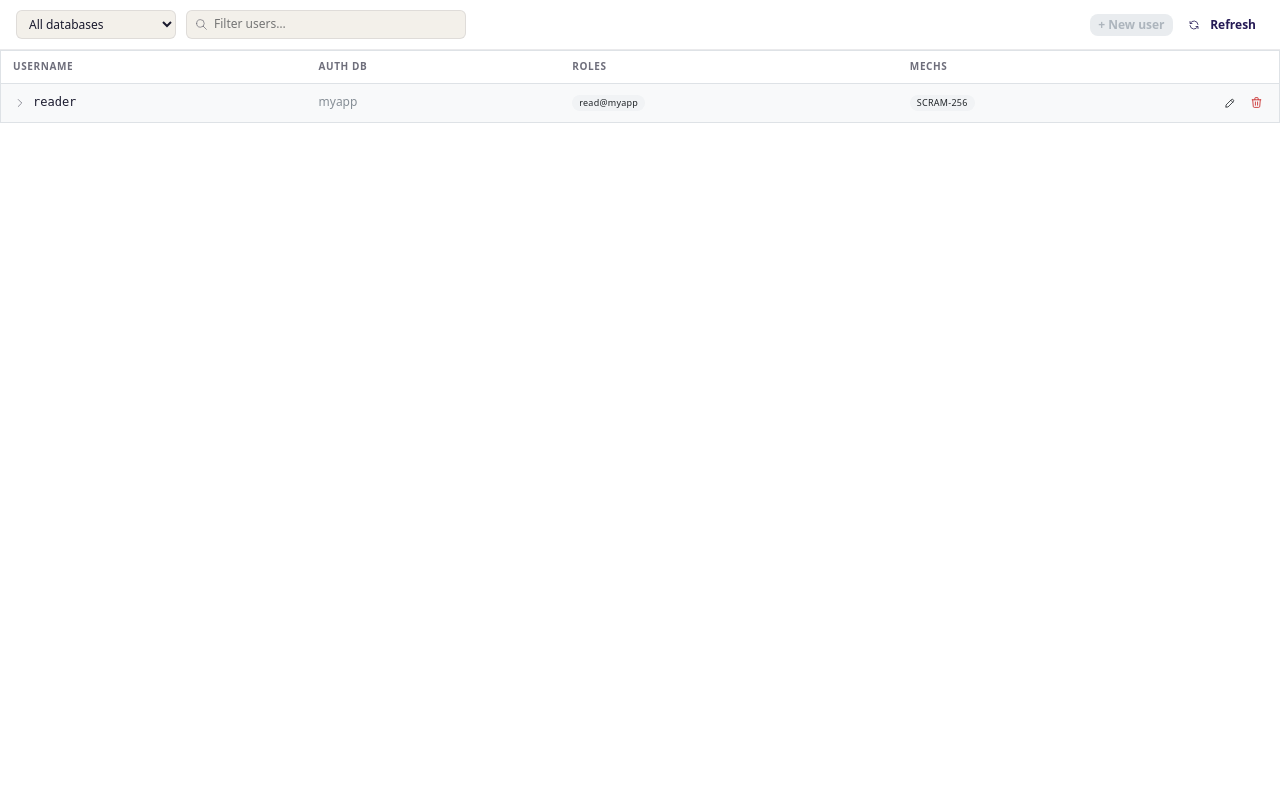
Test: UsersTab — drop confirm › Drop disabled until typed name matches; success refetches
This screenshot has width=1280, height=800.
Check: the text "reader" is shown, box [33, 93, 76, 112]
Click the button named "Drop user reader".
click(1256, 102)  # box [1245, 92, 1267, 114]
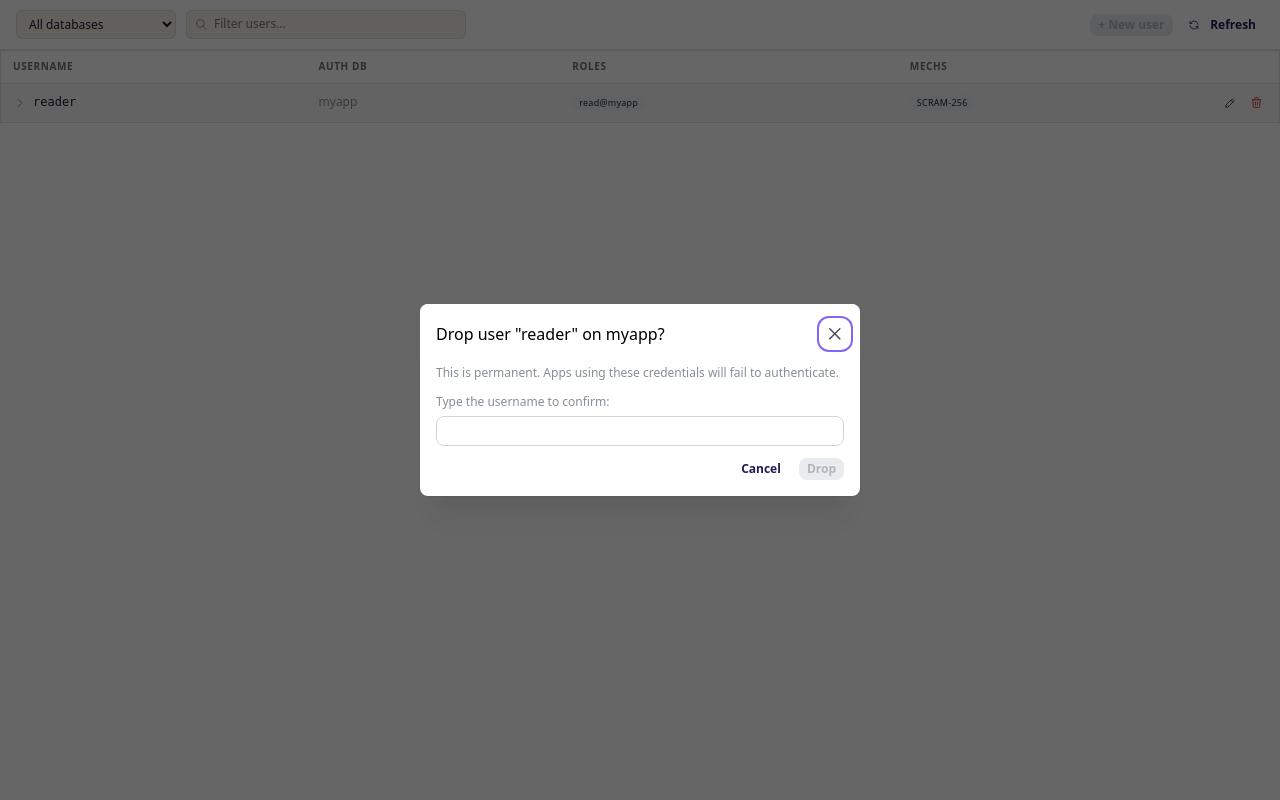
Check: the button "Drop" is disabled, box [799, 458, 844, 480]
Type "wrong" into the field named "Confirm username".
click(640, 431); type("wrong")  # box [436, 416, 844, 446]
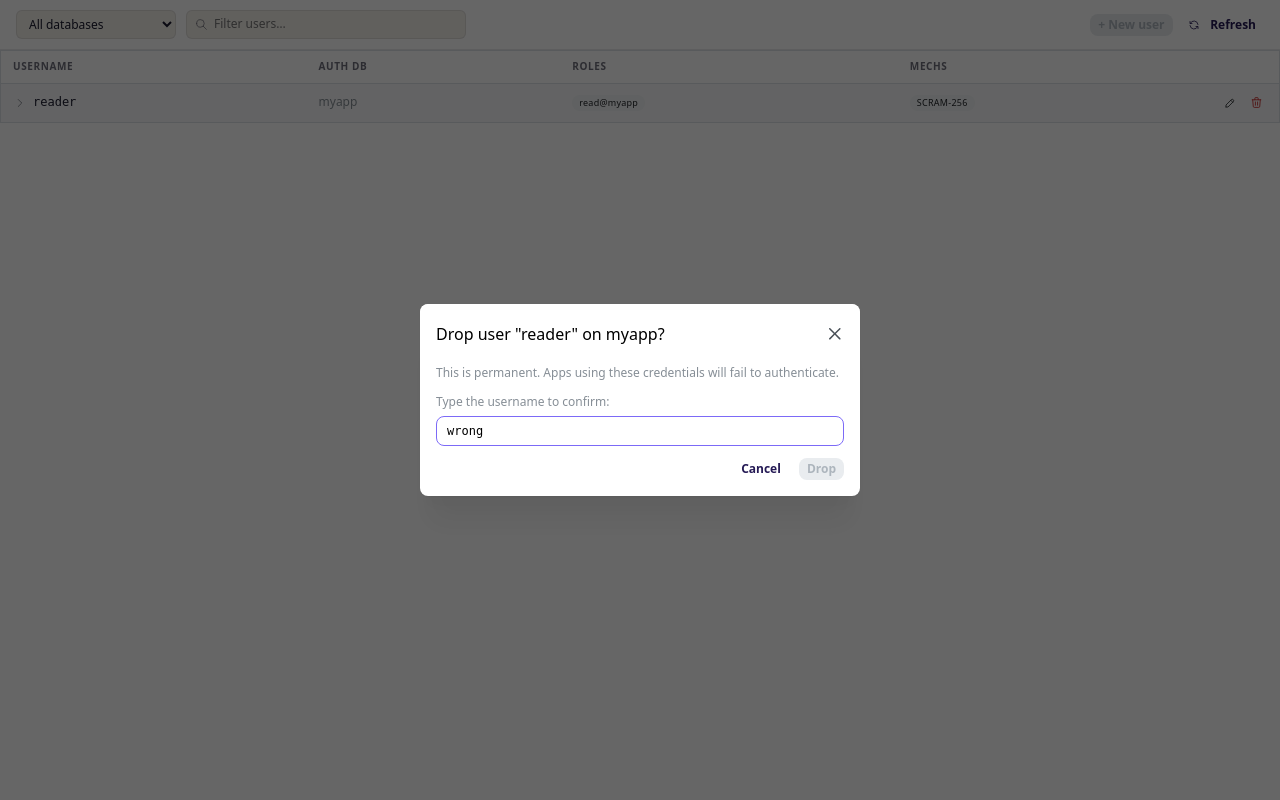
Check: the button "Drop" is disabled, box [799, 458, 844, 480]
Replace the text in the field named "Confirm username" with "reader" at (640, 431), box [436, 416, 844, 446]
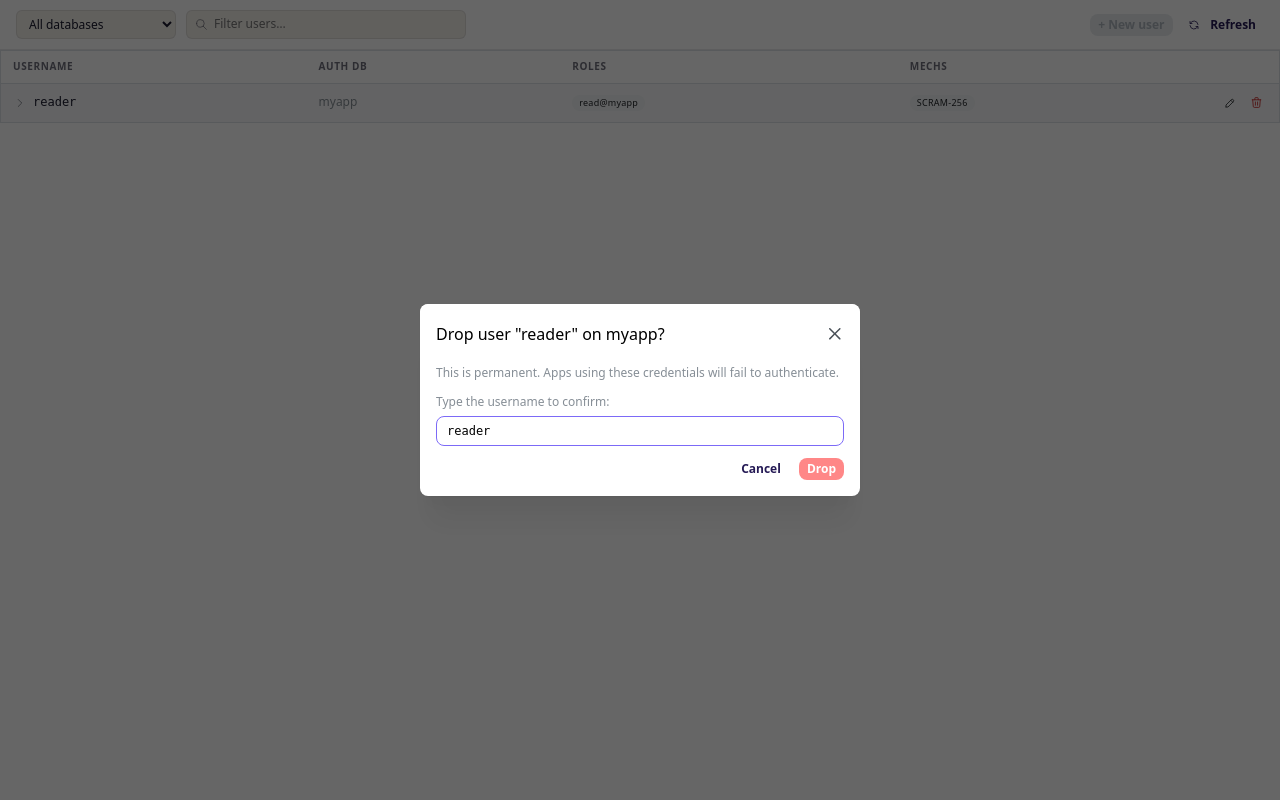
Check: the button "Drop" is enabled
Click the button "Drop".
click(821, 469)  # box [799, 458, 844, 480]
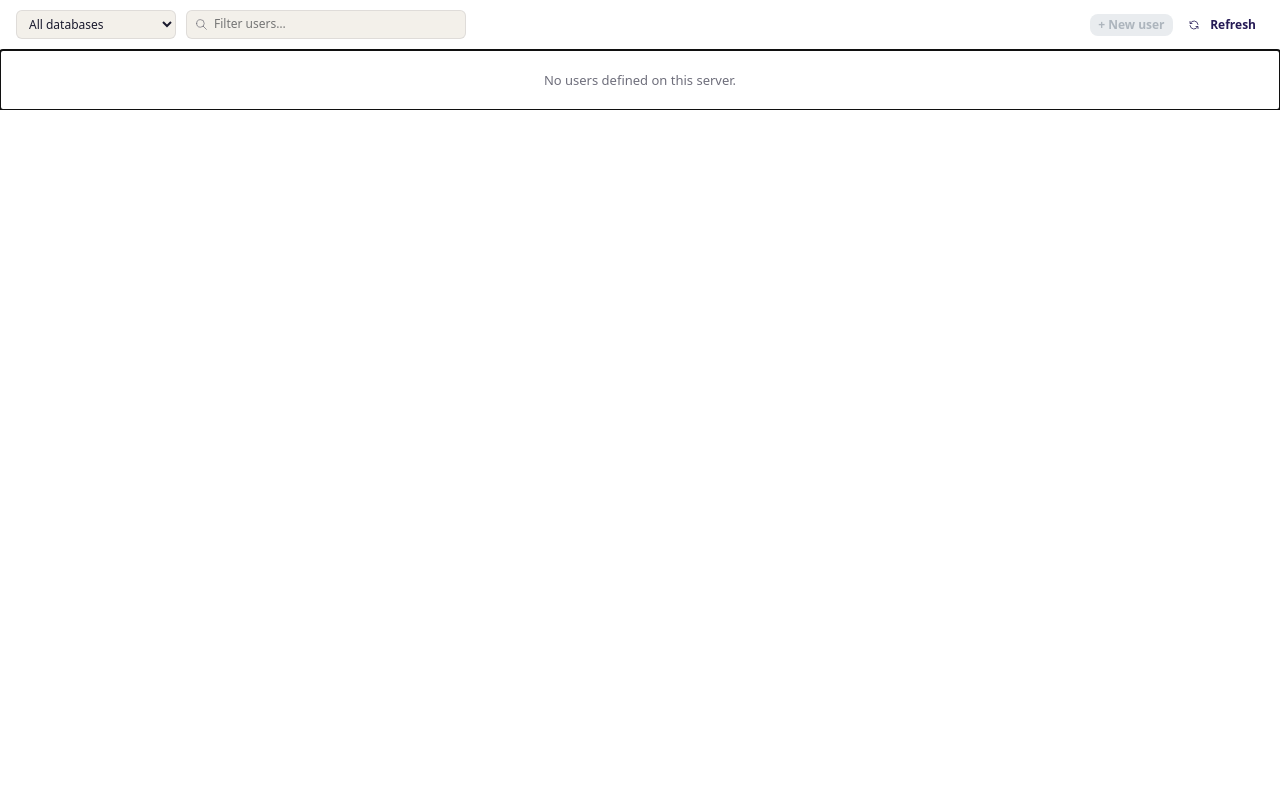
Check: the button "reader" is gone
